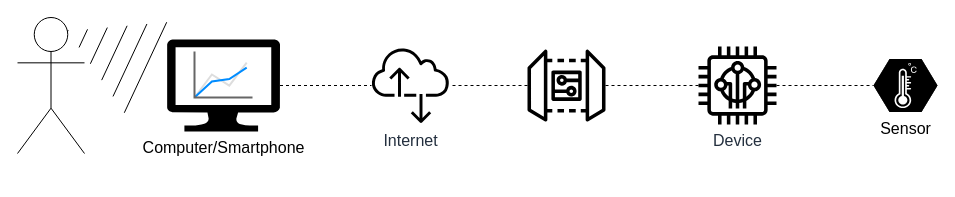
Image size: 955x197. Some labels were removed from this diagram. Here are the shapes that lost their labels. From the top down, the box of each, then its label:
(16, 16, 84, 154): User
(527, 48, 605, 122): Gateway
